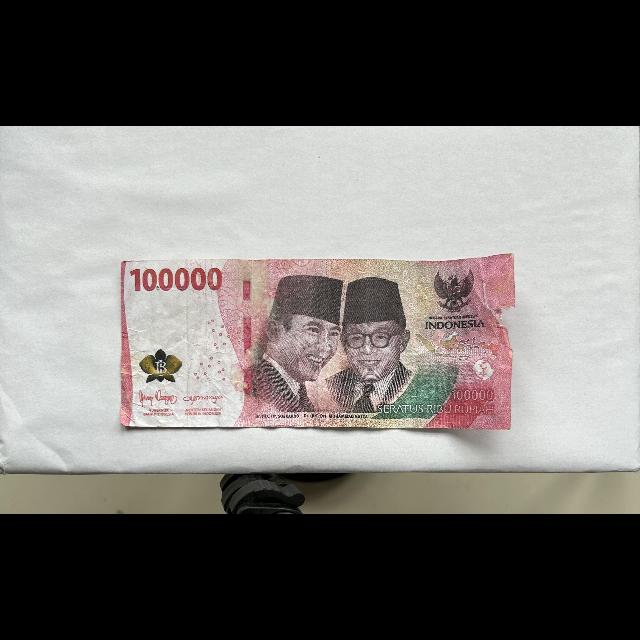Palsu-100k: (119, 252, 518, 432)
Tinta-Palsu-100k: (139, 348, 184, 384)
